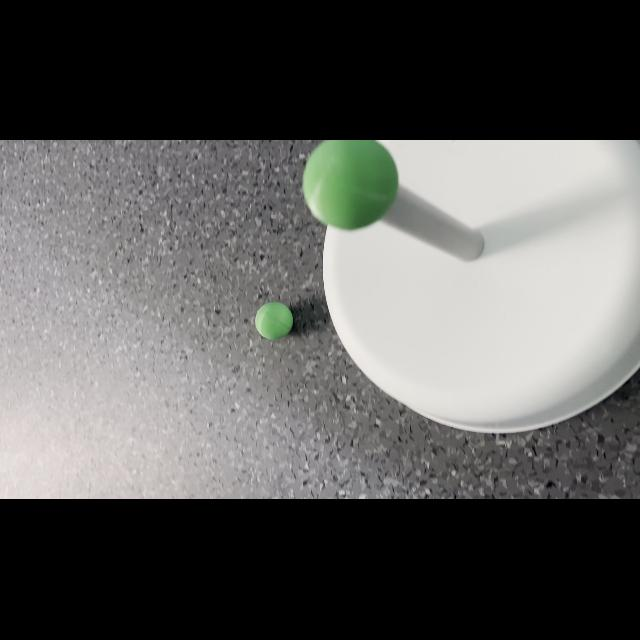objects: (294, 140, 406, 236), (253, 297, 295, 343)
